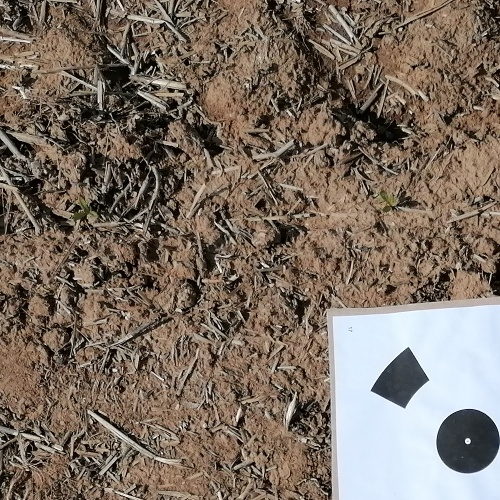beet: (71, 193, 101, 228), (380, 186, 411, 213)
